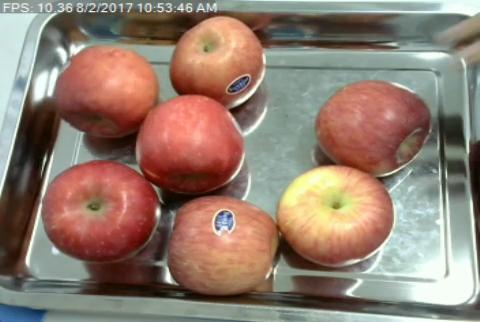apple: (275, 164, 393, 267), (42, 159, 160, 262), (136, 95, 246, 194), (168, 197, 278, 294), (318, 80, 431, 174), (52, 44, 156, 136), (170, 15, 267, 105)
